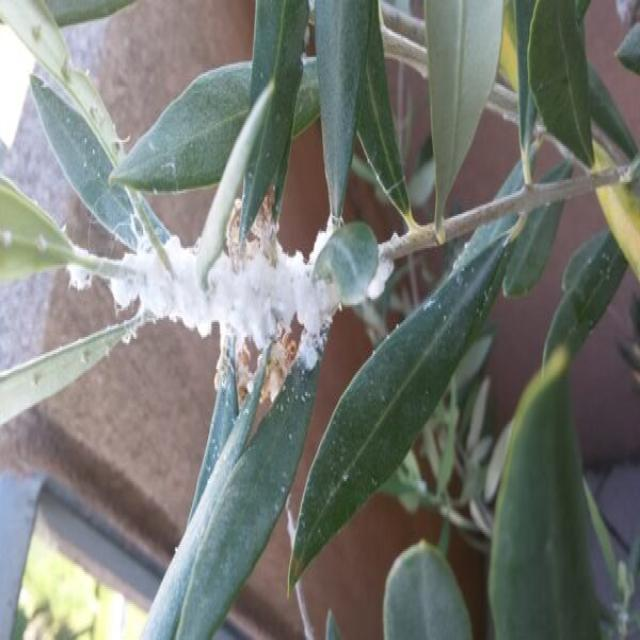Psyllid: (68, 186, 338, 367)
